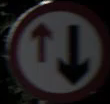Two way: (18, 10, 98, 88)
